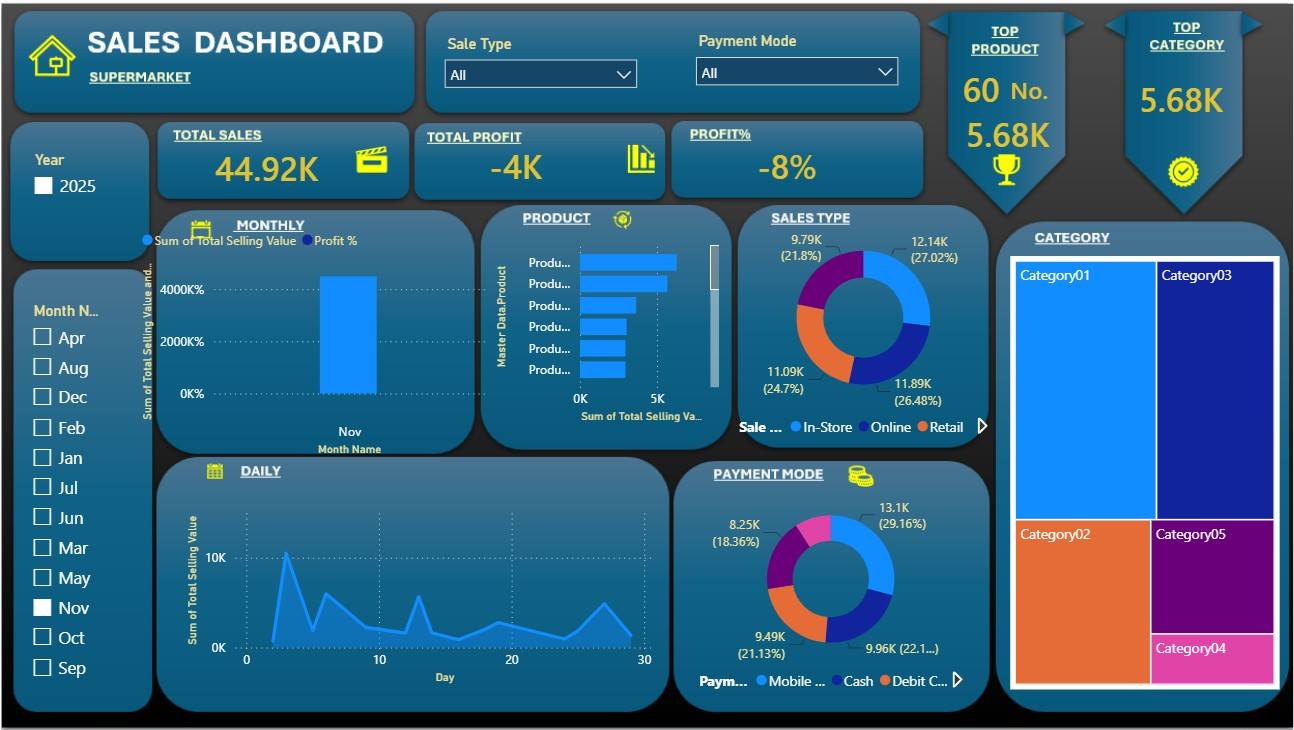

Layout of this report page (visuals, bound fields, positions):
{"tool":"powerbi","page":{"name":"Page 1","canvas":[1280,720],"ordinal":0},"visuals":[{"type":"slicer","fields":{"Values":["Input Data.Year"]},"box":[35.7,144.3,111.4,65.7],"z":0},{"type":"slicer","fields":{"Values":["Input Data.Month Name"]},"box":[35.3,291.2,98.5,388.2],"z":1000},{"type":"slicer","fields":{"Values":["Input Data.Sale Type"]},"box":[434.3,32.9,205.7,64.3],"z":2000},{"type":"slicer","fields":{"Values":["Input Data.Payment Mode"]},"box":[677.1,30,215.7,77.1],"z":3000},{"type":"cardVisual","fields":{"Data":["Input Data.Profit"]},"box":[461.4,135.7,105.7,55.7],"z":4000},{"type":"cardVisual","fields":{"Data":["Sum(Input Data.Quantity)"]},"box":[908.6,62.9,108.6,51.4],"z":5000},{"type":"cardVisual","fields":{"Data":["Sum(Input Data.Total Selling Value)"]},"box":[1087.1,60,137.1,74.3],"z":6000},{"type":"cardVisual","fields":{"Rows":["Input Data.Master Data.UOM "]},"box":[973.6,49.5,71.2,127.9],"z":7000},{"type":"cardVisual","fields":{"Data":["Sum(Input Data.Total Selling Value)"]},"box":[191.4,130,162.9,67.1],"z":8000},{"type":"cardVisual","fields":{"Data":["Sum(Input Data.Total Selling Value)"]},"box":[920,97.1,135.7,67.1],"z":9000},{"type":"cardVisual","fields":{"Data":["Input Data.Profit %"]},"box":[714.3,130,122.9,64.3],"z":10000},{"type":"columnChart","fields":{"Category":["Input Data.Month Name"],"Y":["Sum(Input Data.Total Selling Value)","Input Data.Profit %"]},"box":[147.1,215.7,341.4,232.9],"z":11000},{"type":"clusteredBarChart","fields":{"Category":["Input Data.Master Data.Product"],"Y":["Sum(Input Data.Total Selling Value)"]},"box":[488.6,228.6,225.7,188.6],"z":12000},{"type":"areaChart","fields":{"Y":["Sum(Input Data.Total Selling Value)"],"Category":["Input Data.Day"]},"box":[191.2,485.3,461.8,183.8],"z":13000},{"type":"donutChart","fields":{"Y":["Sum(Input Data.Total Selling Value)"],"Category":["Input Data.Sale Type"]},"box":[724.3,215.7,250,218.6],"z":14000},{"type":"donutChart","fields":{"Y":["Sum(Input Data.Total Selling Value)"],"Category":["Input Data.Payment Mode"]},"box":[685.7,475.7,264.3,204.3],"z":15000},{"type":"treemap","fields":{"Values":["Sum(Input Data.Total Selling Value)"],"Group":["Input Data.Master Data.Category"]},"box":[990,251.4,260,418.6],"z":16000}]}

Visuals, with their boxes in screenshot pixels (x1, y1, x2, y2), scaled from the page's 1280x720 canvas onto the 1294x730 screenshot:
slicer - Input Data.Year: detection(36, 146, 149, 213)
slicer - Input Data.Month Name: detection(36, 295, 135, 689)
slicer - Input Data.Sale Type: detection(439, 33, 647, 99)
slicer - Input Data.Payment Mode: detection(685, 30, 903, 109)
cardVisual - Input Data.Profit: detection(466, 138, 573, 194)
cardVisual - Sum(Input Data.Quantity): detection(919, 64, 1028, 116)
cardVisual - Sum(Input Data.Total Selling Value): detection(1099, 61, 1238, 136)
cardVisual - Input Data.Master Data.UOM : detection(984, 50, 1056, 180)
cardVisual - Sum(Input Data.Total Selling Value): detection(193, 132, 358, 200)
cardVisual - Sum(Input Data.Total Selling Value): detection(930, 98, 1067, 166)
cardVisual - Input Data.Profit %: detection(722, 132, 846, 197)
columnChart - Input Data.Month Name x Sum(Input Data.Total Selling Value): detection(149, 219, 494, 455)
clusteredBarChart - Input Data.Master Data.Product x Sum(Input Data.Total Selling Value): detection(494, 232, 722, 423)
areaChart - Sum(Input Data.Total Selling Value) x Input Data.Day: detection(193, 492, 660, 678)
donutChart - Sum(Input Data.Total Selling Value) x Input Data.Sale Type: detection(732, 219, 985, 440)
donutChart - Sum(Input Data.Total Selling Value) x Input Data.Payment Mode: detection(693, 482, 960, 689)
treemap - Sum(Input Data.Total Selling Value) x Input Data.Master Data.Category: detection(1001, 255, 1264, 679)
